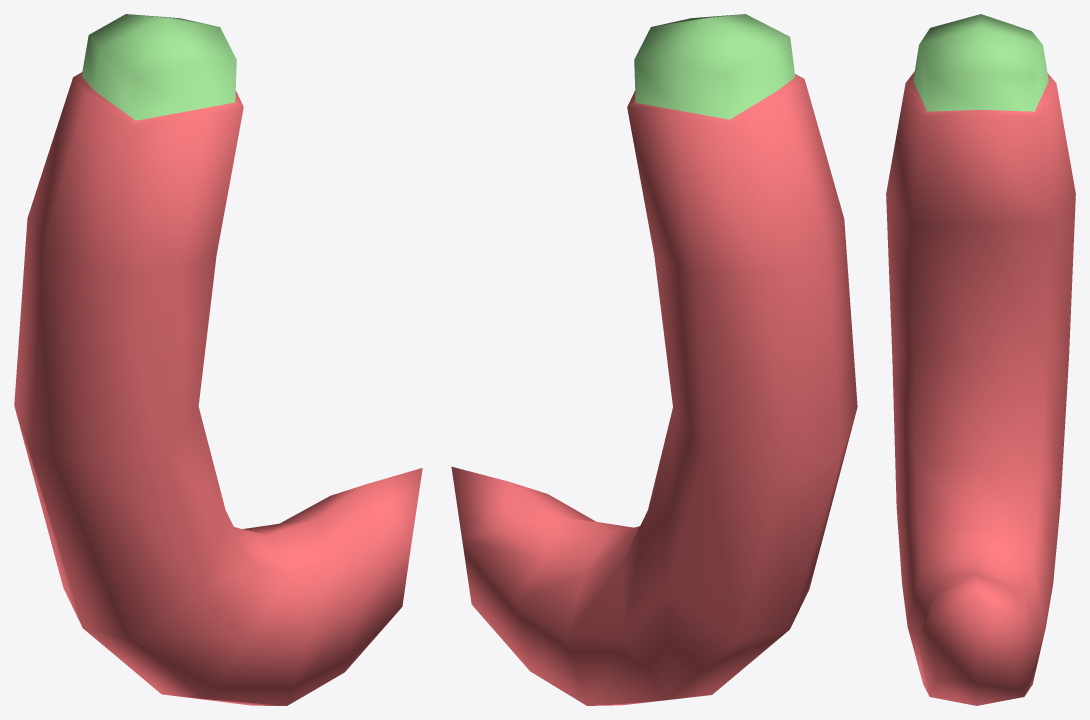
The model's file is HeatFruit.fbx.
The picture shows the model from 3 angles, left to right: view 1: azimuth 30°, elevation 25°; view 2: azimuth 150°, elevation 25°; view 3: azimuth 270°, elevation 25°; orthographic projection. The views are drawn at different scales.
Visible parts, largest first — view 1: HeatFruit_Item_LOD0; view 2: HeatFruit_Item_LOD0; view 3: HeatFruit_Item_LOD0.
Part boxes in pixels (x1=…): HeatFruit_Item_LOD0: x1=14, y1=14, x2=422, y2=705; HeatFruit_Item_LOD0: x1=451, y1=14, x2=857, y2=705; HeatFruit_Item_LOD0: x1=886, y1=14, x2=1075, y2=705.
Size of what is drawn, in the model's own units: 0.1765 by 0.3056 by 0.0828.
